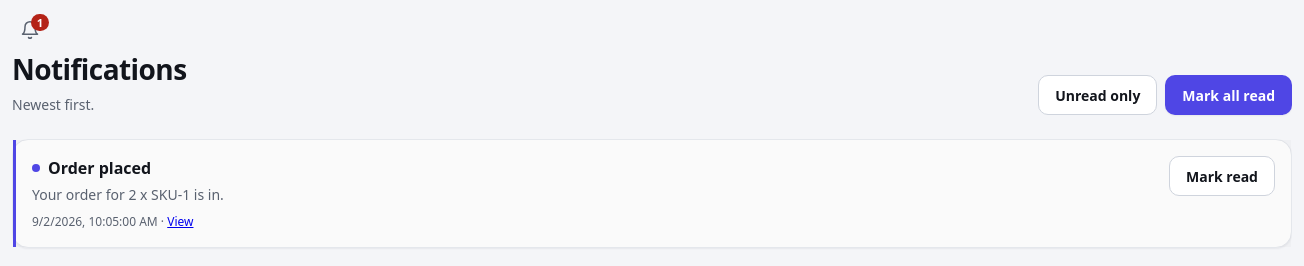
marking read and the unread badge › refetches the badge after marking one row read
Click the button with aria-label "Mark Order placed read": click(1222, 176) [1169,156,1275,196]
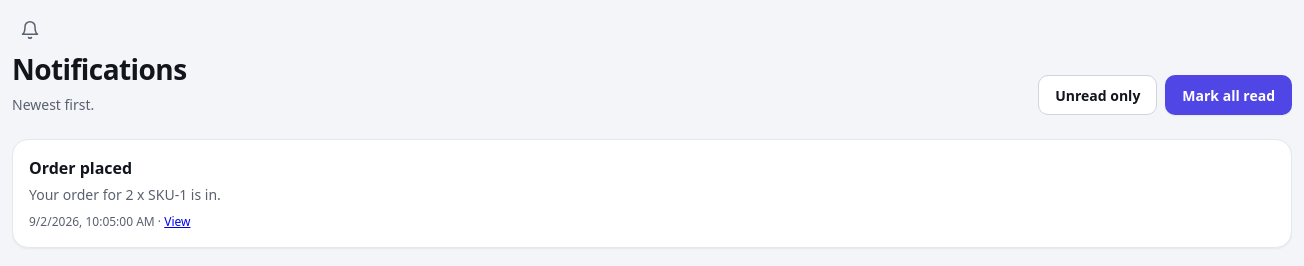
Result: the link named "Notifications, none unread" is shown at [20,20,40,40]
